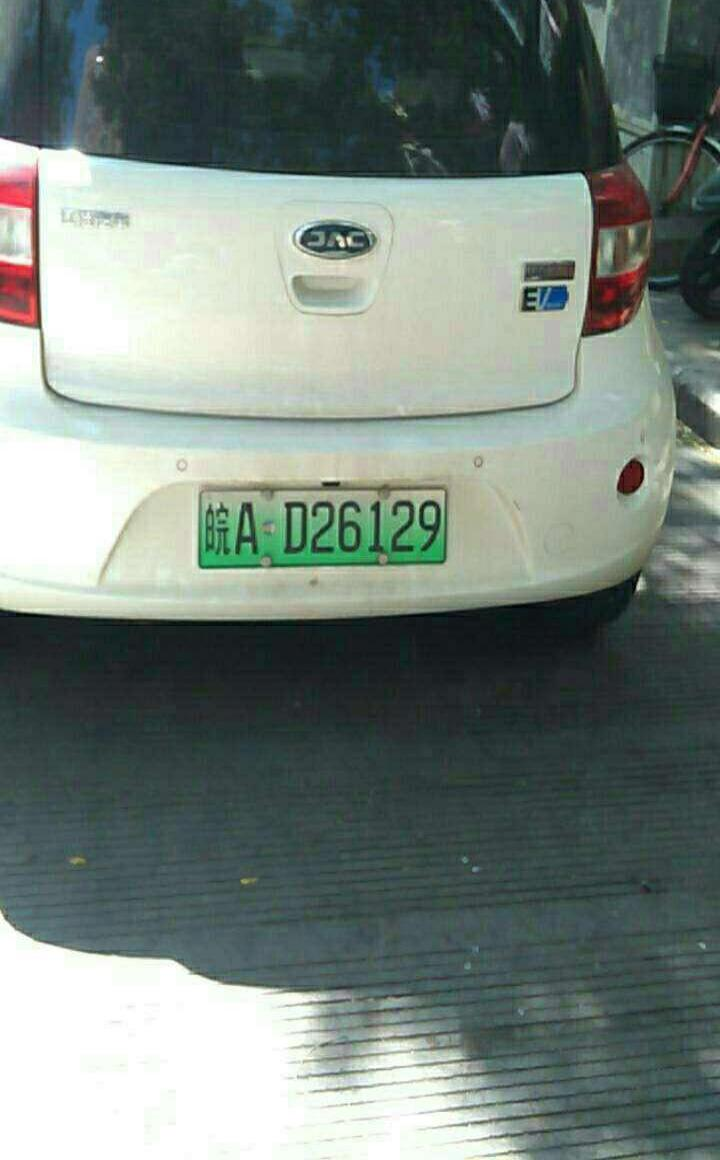car_id: (204, 485, 448, 569)
